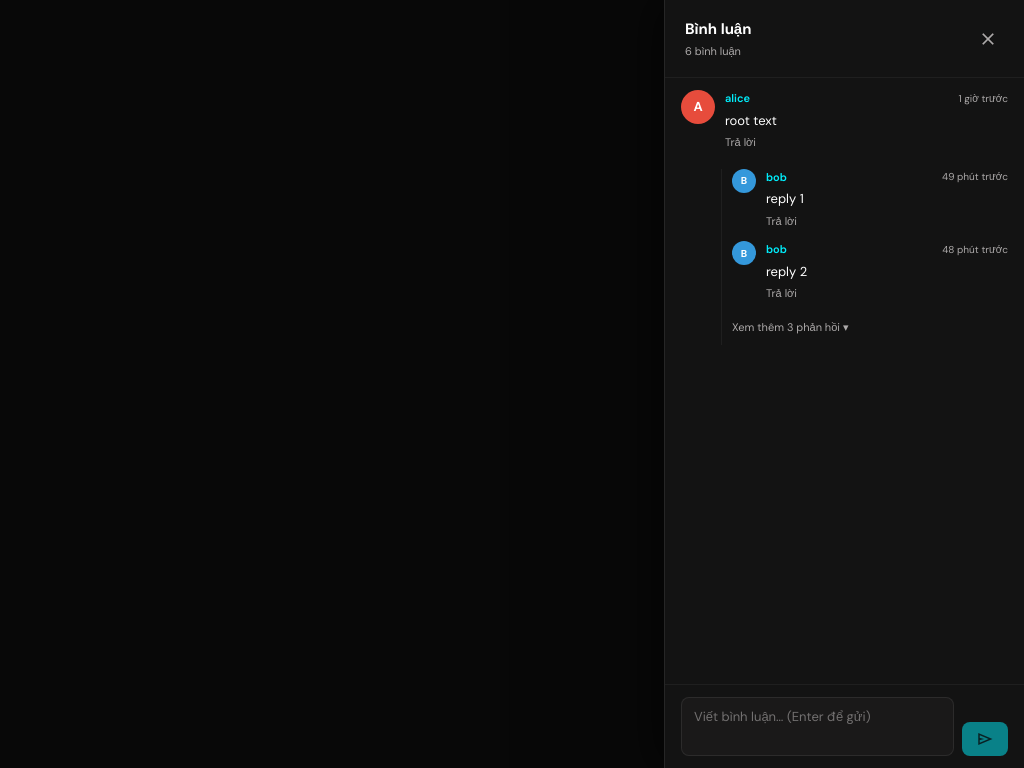
Test: CommentPanel › collapses after 2 replies and expands on demand
Expected: the text "root text" is shown, [725,112,777,128]
Expected: the text "reply 1" is shown, [766,190,804,207]
Click the button "Xem thêm 3 phản hồi ▾" at (790, 327), box [732,318,848,335]
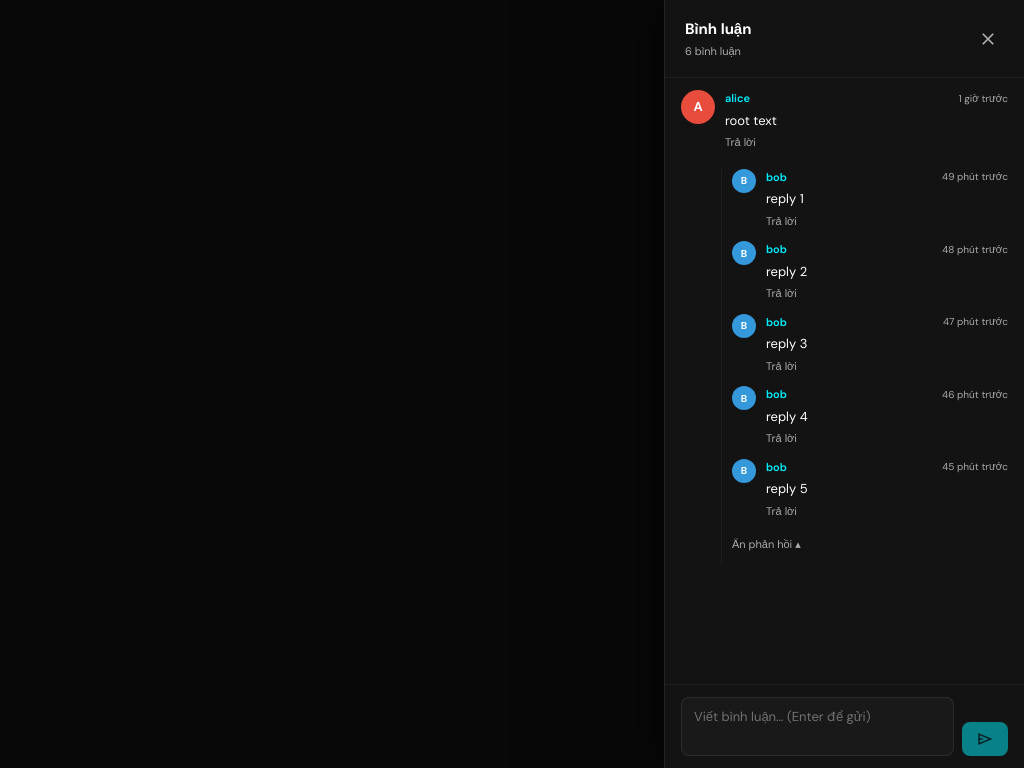
Now the text "reply 5" is shown, box [766,480,808,497]
Click the button "Ẩn phản hồi ▴" at (766, 544), box [732,536,801,552]
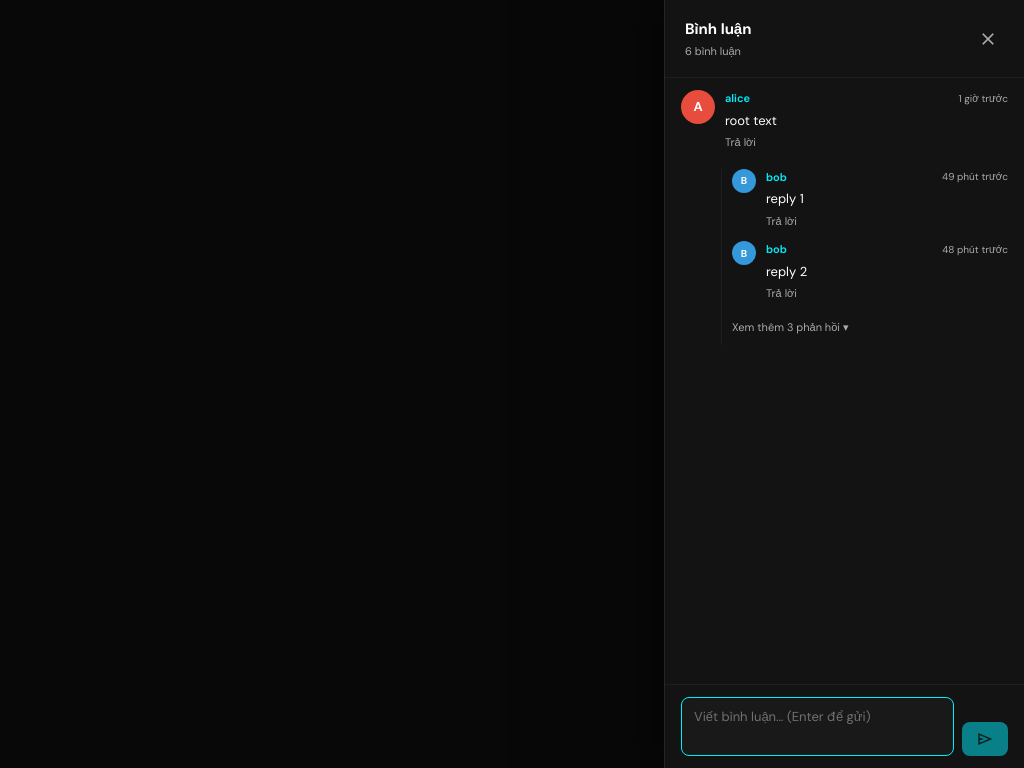
Now the text "reply 3" is gone
